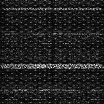lte: (1, 63, 104, 69)
